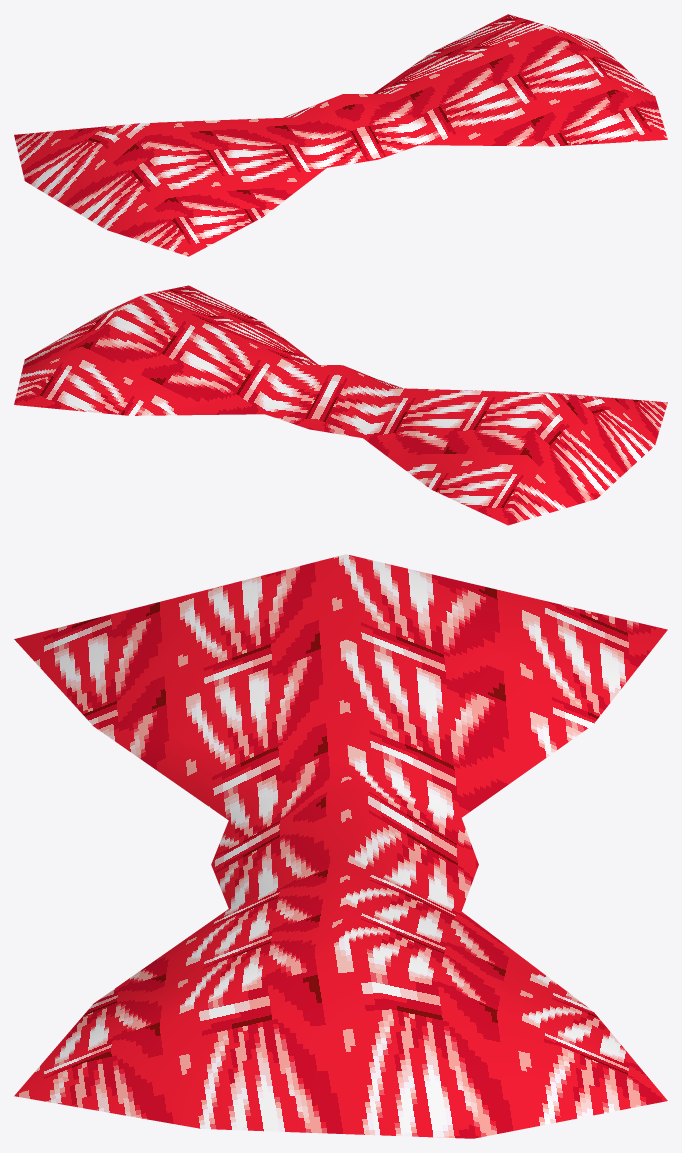
The model's file is 2950head100_c.gltf.
The picture shows the model from 3 angles, top to bottom: view 1: azimuth 30°, elevation 25°; view 2: azimuth 150°, elevation 25°; view 3: azimuth 270°, elevation 25°; orthographic projection. The views are drawn at different scales.
Visible parts, largest first — view 1: 2950head100_c; view 2: 2950head100_c; view 3: 2950head100_c.
Boxes of the visible parts, x1,y1,x2,y2 form: 2950head100_c: [14, 14, 667, 256]; 2950head100_c: [14, 285, 667, 525]; 2950head100_c: [14, 554, 667, 1138].
Size of the model in its own units: 0.8569 by 0.0891 by 0.4341.
Materials: 1 (1 with a texture image).
